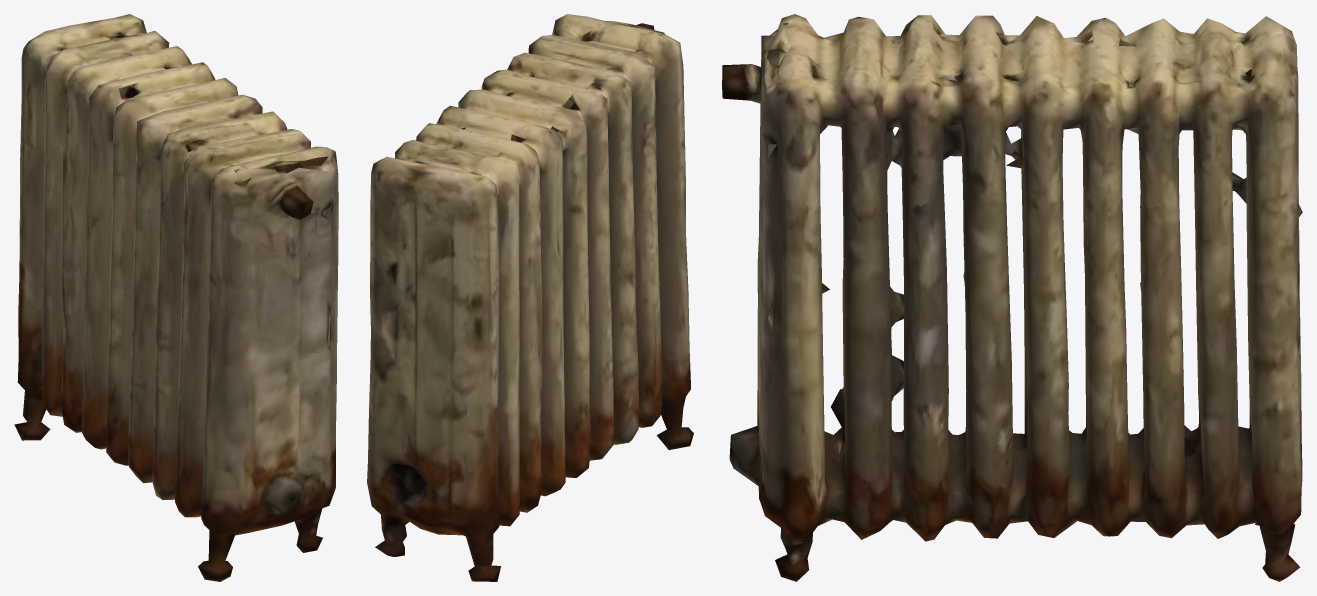
Rendered from de_radiator.glb.
3 views of the same model, side by side, from view 1: azimuth 30°, elevation 25°; view 2: azimuth 150°, elevation 25°; view 3: azimuth 270°, elevation 25° (orthographic). The views are drawn at different scales.
Parts seen in each view (by area): view 1: tripo_node_6b080d80-5d33-4147-acb1-f612cbfbe1d8; view 2: tripo_node_6b080d80-5d33-4147-acb1-f612cbfbe1d8; view 3: tripo_node_6b080d80-5d33-4147-acb1-f612cbfbe1d8.
Boxes of the visible parts, x1,y1,x2,y2 form: tripo_node_6b080d80-5d33-4147-acb1-f612cbfbe1d8: (14, 14, 338, 581); tripo_node_6b080d80-5d33-4147-acb1-f612cbfbe1d8: (367, 14, 693, 581); tripo_node_6b080d80-5d33-4147-acb1-f612cbfbe1d8: (722, 14, 1302, 581).
Bounding box in the file's own units: 0.348 × 0.981 × 0.9955.
Materials: 1 (1 with a texture image).
